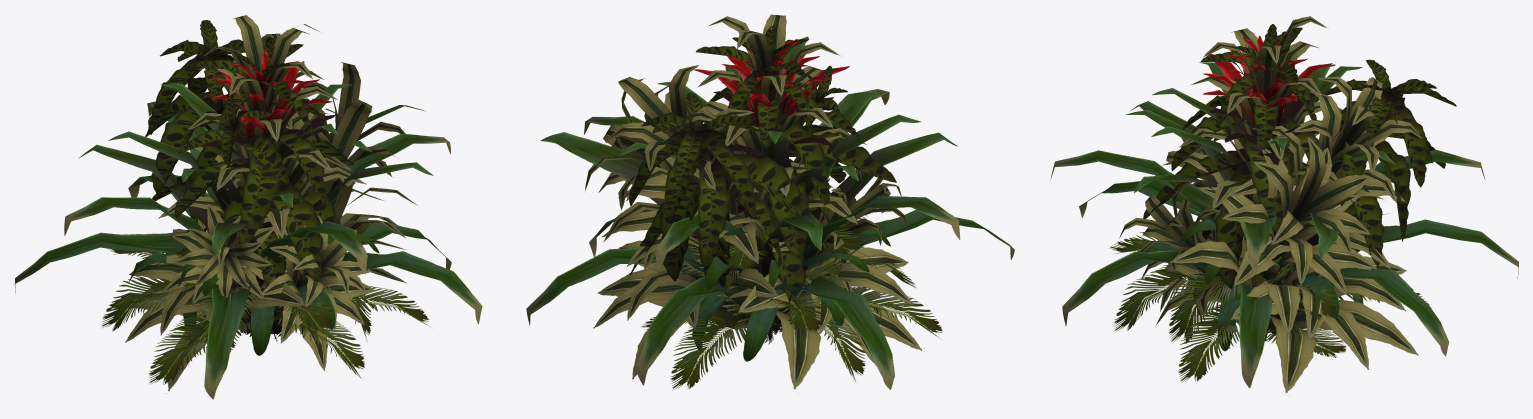
Rendered from tropical-shrubs.glb.
3 renders of one model, left to right at view 1: azimuth 30°, elevation 25°; view 2: azimuth 150°, elevation 25°; view 3: azimuth 270°, elevation 25°, orthographic. The views are drawn at different scales.
Parts seen in each view (by area): view 1: tropical_shrubs_c, tropical_shrubs_a, tropical_shrubs_d, tropical_shrubs_e, tropical_shrubs_b; view 2: tropical_shrubs_c, tropical_shrubs_a, tropical_shrubs_d, tropical_shrubs_e, tropical_shrubs_b; view 3: tropical_shrubs_c, tropical_shrubs_a, tropical_shrubs_d, tropical_shrubs_e, tropical_shrubs_b.
Part boxes in pixels (x1=…): tropical_shrubs_c: x1=125, y1=15, x2=417, y2=391; tropical_shrubs_a: x1=14, y1=49, x2=482, y2=399; tropical_shrubs_d: x1=145, y1=20, x2=353, y2=287; tropical_shrubs_e: x1=101, y1=216, x2=429, y2=384; tropical_shrubs_b: x1=129, y1=229, x2=379, y2=355; tropical_shrubs_c: x1=585, y1=14, x2=921, y2=389; tropical_shrubs_a: x1=526, y1=36, x2=1014, y2=389; tropical_shrubs_d: x1=629, y1=26, x2=896, y2=315; tropical_shrubs_e: x1=619, y1=178, x2=942, y2=390; tropical_shrubs_b: x1=629, y1=209, x2=890, y2=361; tropical_shrubs_c: x1=1119, y1=16, x2=1422, y2=392; tropical_shrubs_a: x1=1050, y1=35, x2=1518, y2=388; tropical_shrubs_d: x1=1143, y1=24, x2=1456, y2=288; tropical_shrubs_e: x1=1109, y1=191, x2=1432, y2=382; tropical_shrubs_b: x1=1138, y1=219, x2=1388, y2=351.
Size of the model in its own units: 2.48 by 2.05 by 2.58.
5 materials, 5 textured.
